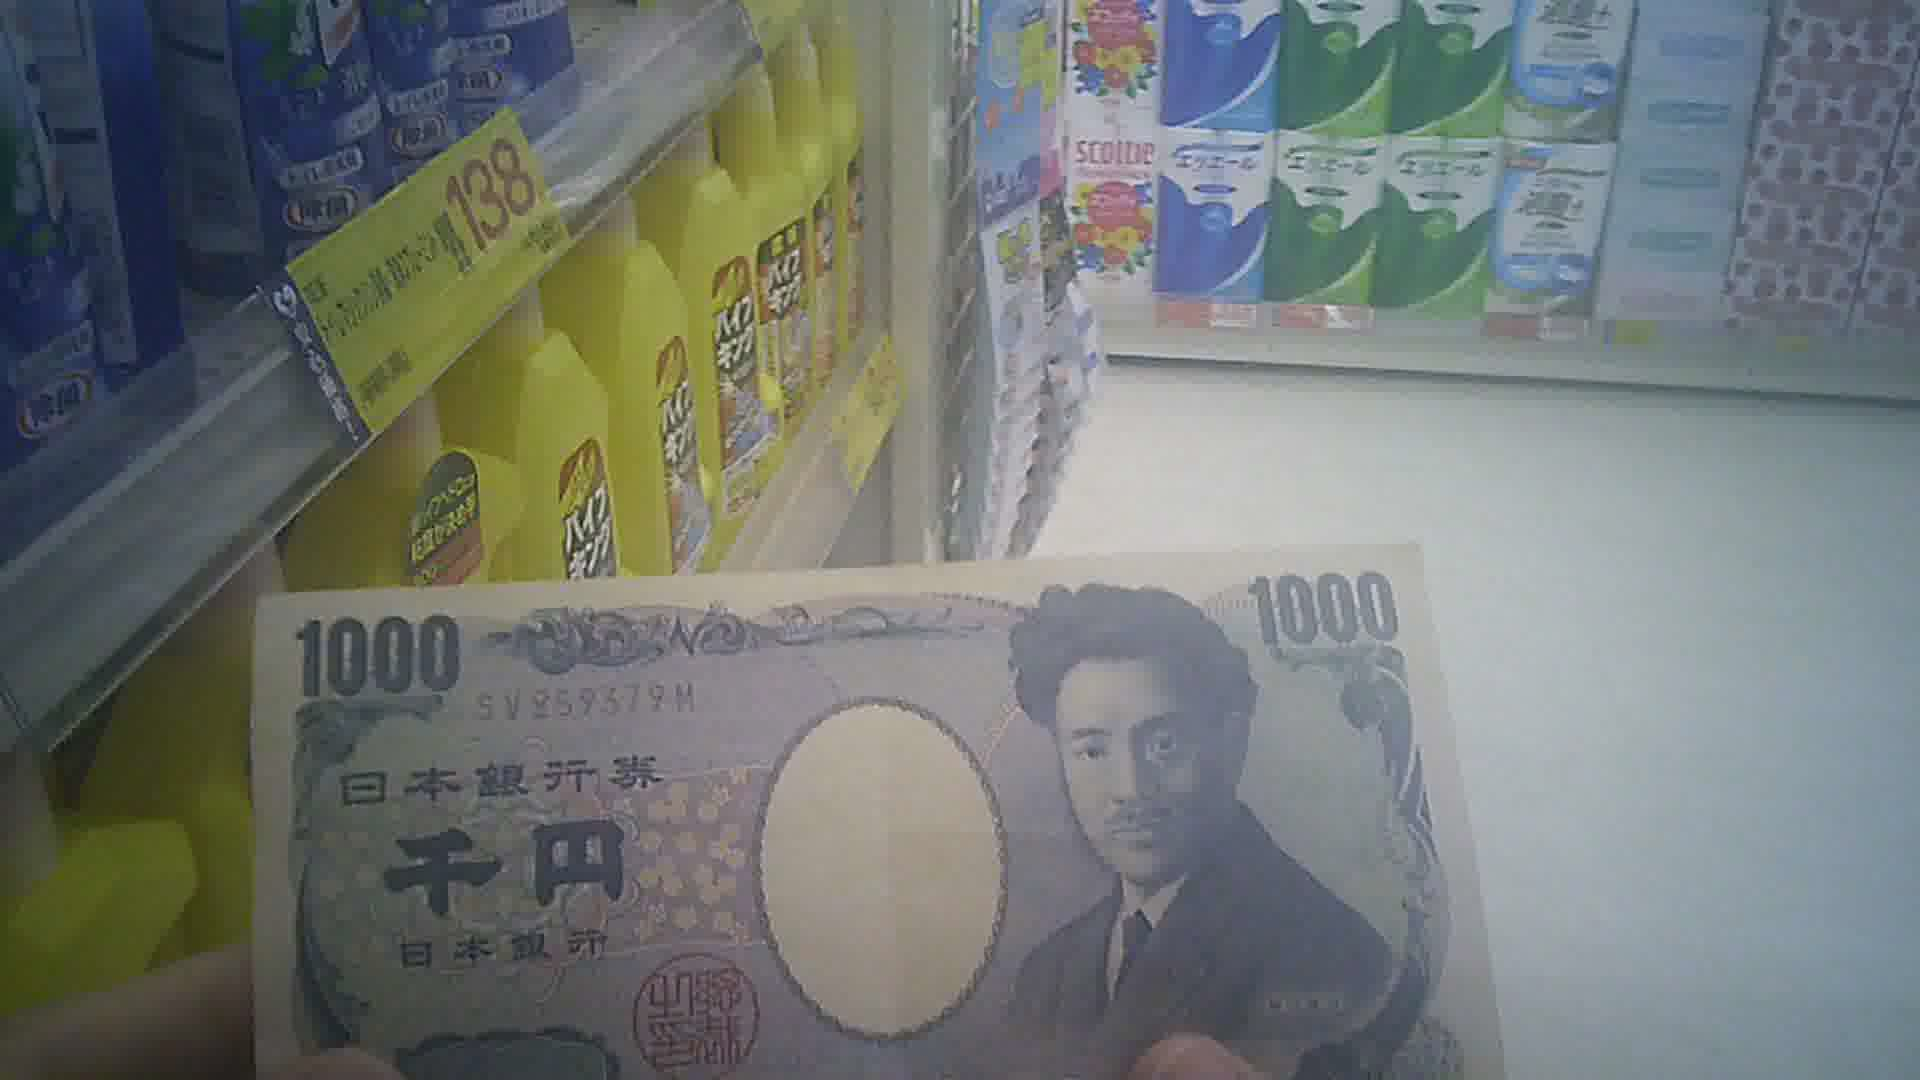1,000 Yen: (247, 542, 1548, 1079)
